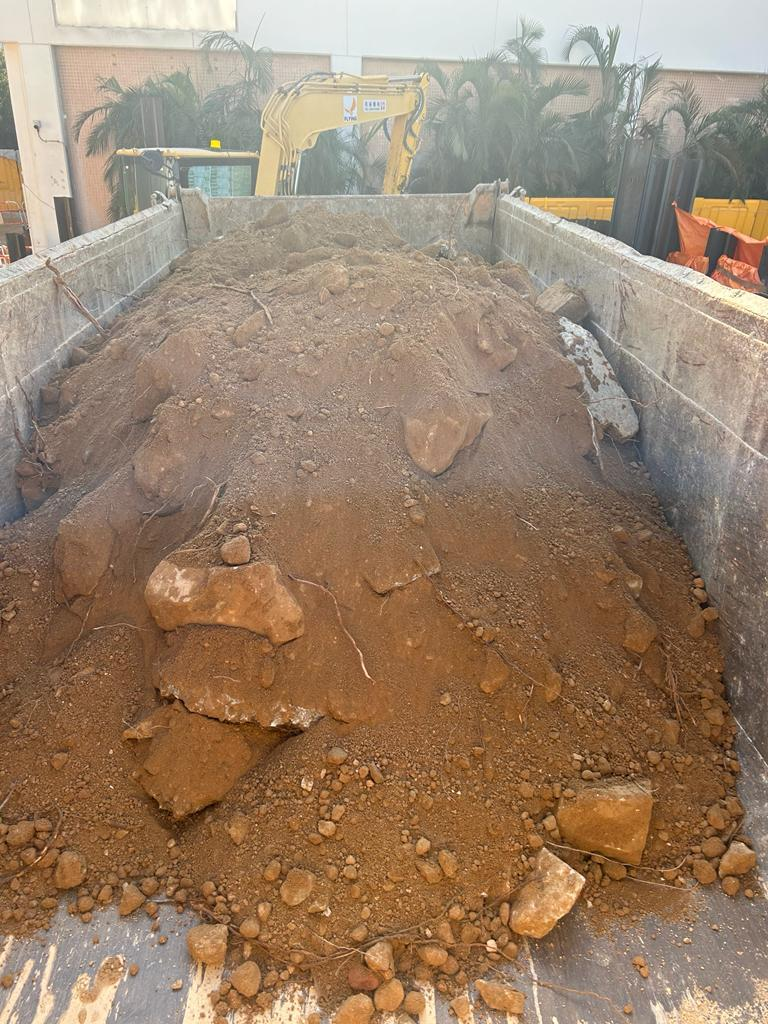dry: (8, 232, 727, 982)
